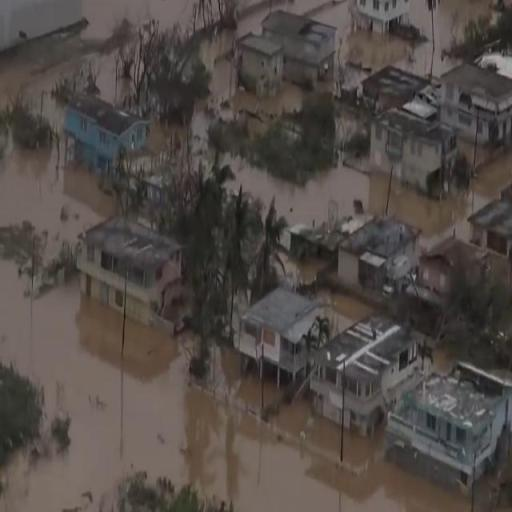flood: (0, 262, 468, 512), (0, 0, 334, 155), (239, 156, 512, 233), (0, 153, 111, 238), (273, 399, 382, 461), (296, 257, 373, 330), (411, 0, 495, 58), (82, 0, 192, 39), (219, 350, 281, 408), (409, 39, 458, 78)
house: (390, 364, 508, 509), (288, 207, 422, 291), (332, 317, 420, 440), (239, 281, 323, 398), (102, 220, 187, 332), (441, 51, 512, 158), (70, 92, 150, 180), (386, 99, 456, 196), (274, 0, 346, 89), (465, 179, 512, 261), (238, 34, 284, 102), (362, 65, 428, 110), (356, 0, 410, 40)
